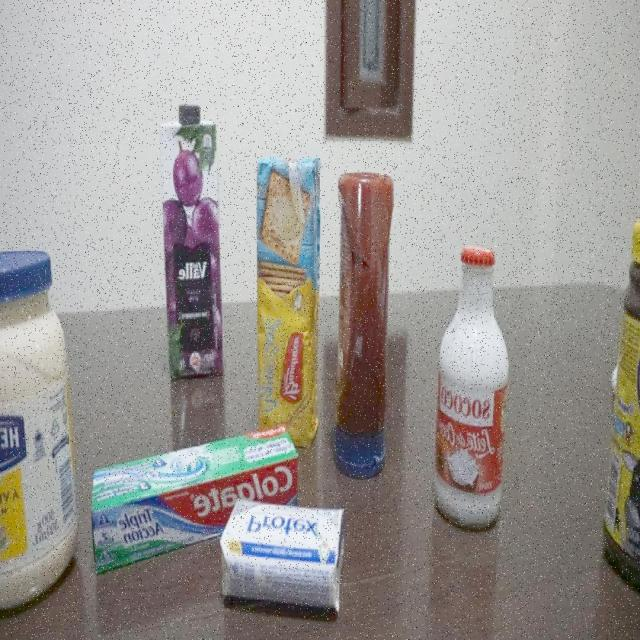ChocolatePowder: (602, 216, 640, 598)
CoconutMilk: (432, 242, 509, 532)
Cracker: (254, 153, 319, 454)
Ketchup: (333, 170, 395, 482)
Mayonnaise: (0, 249, 82, 613)
Soap: (220, 495, 348, 619)
Toothpaste: (91, 424, 301, 506)
